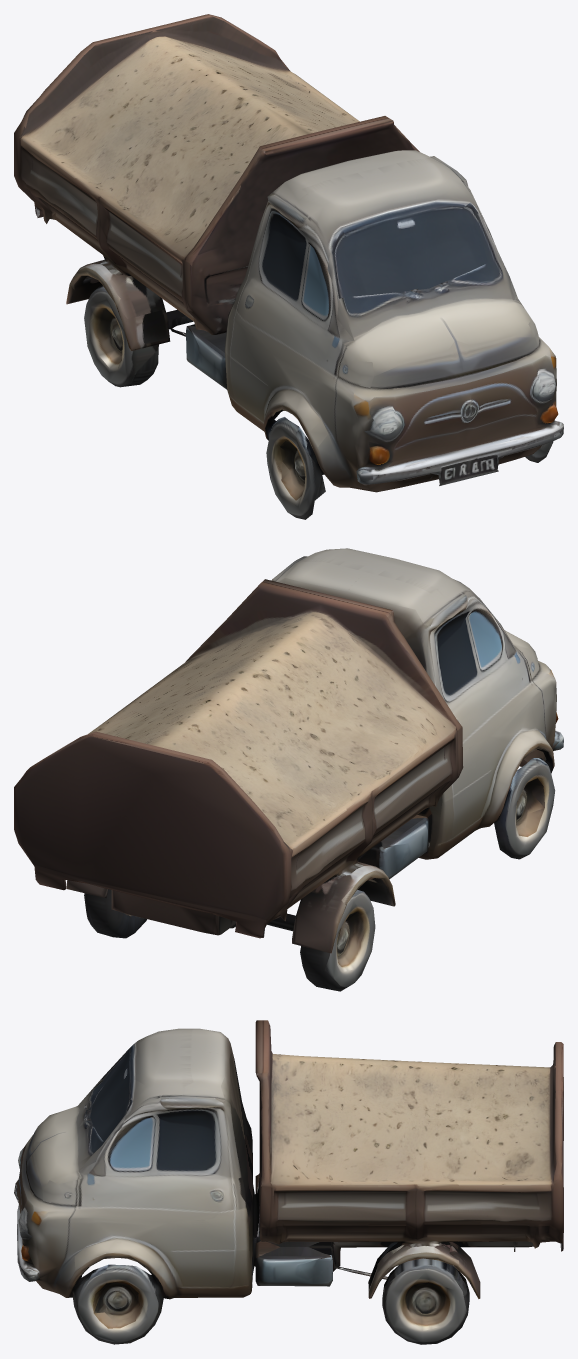
The model's file is seat600_truck_low.fbx.
3 renders of one model, top to bottom at view 1: azimuth 30°, elevation 25°; view 2: azimuth 150°, elevation 25°; view 3: azimuth 270°, elevation 25°, orthographic. The views are drawn at different scales.
Visible parts, largest first — view 1: model.005; view 2: model.005; view 3: model.005.
Part boxes in pixels (bbox=[...]): model.005: bbox=[14, 14, 563, 519]; model.005: bbox=[14, 548, 563, 991]; model.005: bbox=[14, 1020, 563, 1344].
Size of the model in its own units: 75.37 by 77.18 by 154.
